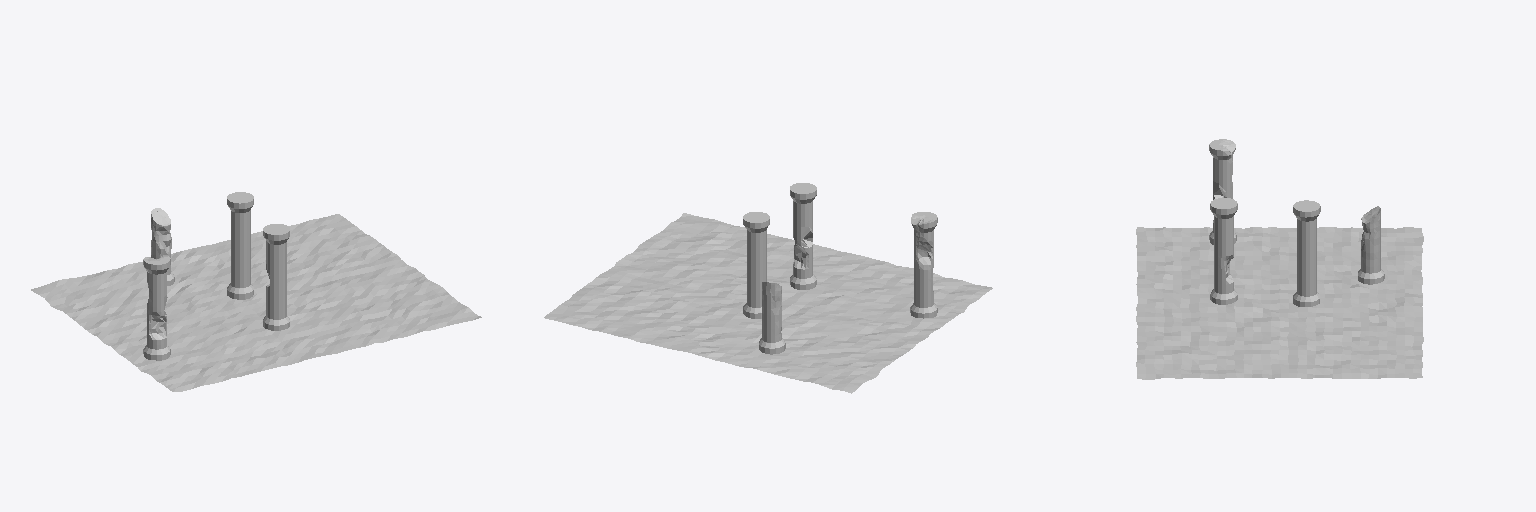
File: Pilastra 3.obj
The picture shows the model from 3 angles: view 1: azimuth 30°, elevation 25°; view 2: azimuth 150°, elevation 25°; view 3: azimuth 270°, elevation 25°; orthographic projection.
Visible parts, largest first — view 1: Grama_Plane.001, Pilastra_1_Cylinder.001, Pilastra_3_Cylinder, Pilastra_2_Cylinder.002, Pilastra_3.002_Cylinder.003; view 2: Grama_Plane.001, Pilastra_1_Cylinder.001, Pilastra_2_Cylinder.002, Pilastra_3_Cylinder, Pilastra_3.002_Cylinder.003; view 3: Grama_Plane.001, Pilastra_3_Cylinder, Pilastra_1_Cylinder.001, Pilastra_3.002_Cylinder.003, Pilastra_2_Cylinder.002.
Boxes of the visible parts, x1=… form: Grama_Plane.001: x1=31, y1=214, x2=481, y2=391; Pilastra_1_Cylinder.001: x1=263, y1=224, x2=289, y2=330; Pilastra_3_Cylinder: x1=227, y1=192, x2=253, y2=299; Pilastra_2_Cylinder.002: x1=143, y1=256, x2=170, y2=360; Pilastra_3.002_Cylinder.003: x1=151, y1=208, x2=174, y2=285; Grama_Plane.001: x1=544, y1=213, x2=992, y2=393; Pilastra_1_Cylinder.001: x1=790, y1=183, x2=816, y2=289; Pilastra_2_Cylinder.002: x1=910, y1=212, x2=937, y2=318; Pilastra_3_Cylinder: x1=743, y1=212, x2=769, y2=318; Pilastra_3.002_Cylinder.003: x1=759, y1=282, x2=785, y2=354; Grama_Plane.001: x1=1136, y1=227, x2=1423, y2=379; Pilastra_3_Cylinder: x1=1293, y1=200, x2=1320, y2=306; Pilastra_1_Cylinder.001: x1=1210, y1=198, x2=1237, y2=304; Pilastra_3.002_Cylinder.003: x1=1358, y1=206, x2=1384, y2=284; Pilastra_2_Cylinder.002: x1=1209, y1=139, x2=1236, y2=244.
Bounding box in the file's own units: 34.63 × 10.38 × 27.72.